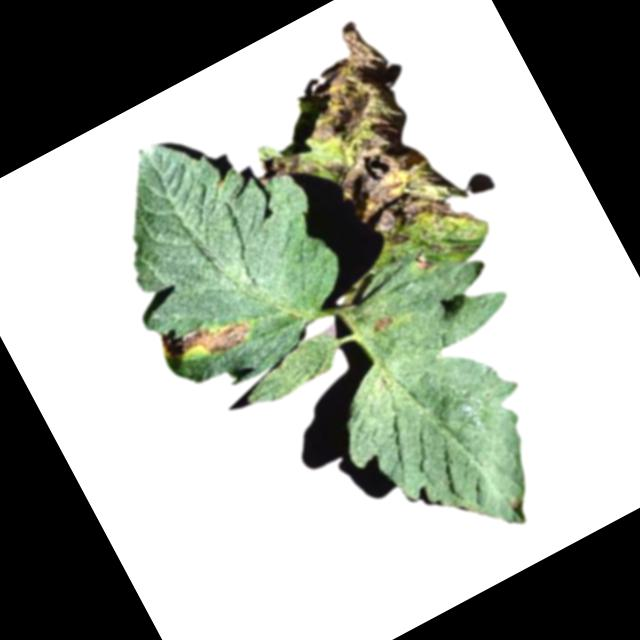Early_blight: (214, 9, 491, 318), (147, 289, 259, 385), (369, 312, 395, 334)
